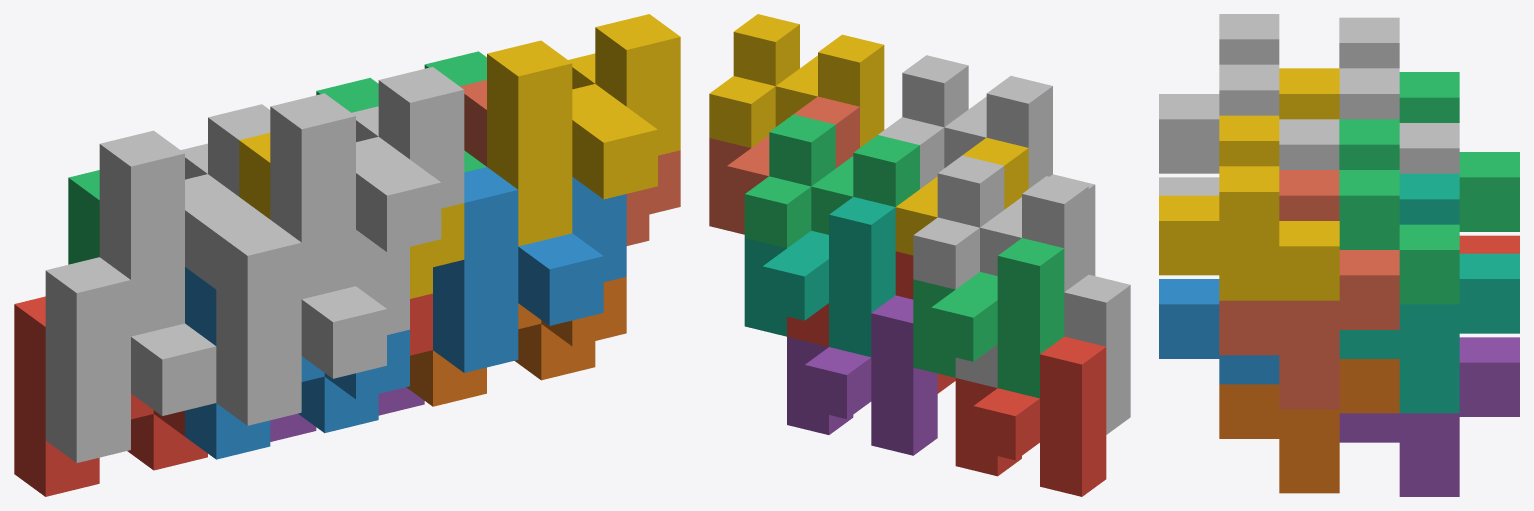
Rendered from tiling.obj.
3 renders of one model, left to right at view 1: azimuth 30°, elevation 25°; view 2: azimuth 150°, elevation 25°; view 3: azimuth 270°, elevation 25°, orthographic. The views are drawn at different scales.
Visible parts, largest first — view 1: copy_2_domain_4, copy_2_domain_8, copy_2_domain_2, copy_2_domain_6, copy_2_domain_3, copy_2_domain_1, copy_1_domain_1, copy_1_domain_2, copy_1_domain_6, copy_1_domain_4, copy_1_domain_8, copy_2_domain_7 (+3 smaller); view 2: copy_1_domain_1, copy_1_domain_3, copy_1_domain_7, copy_2_domain_3, copy_1_domain_5, copy_2_domain_8, copy_2_domain_7, copy_2_domain_4, copy_2_domain_1, copy_1_domain_8, copy_1_domain_4, copy_2_domain_5 (+1 smaller); view 3: copy_2_domain_8, copy_1_domain_8, copy_1_domain_7, copy_2_domain_4, copy_2_domain_7, copy_1_domain_6, copy_1_domain_5, copy_2_domain_3, copy_1_domain_3, copy_2_domain_6, copy_1_domain_4, copy_2_domain_2 (+1 smaller).
Part boxes in pixels (left/top/right/bottom): copy_2_domain_4: left=270, top=67, right=464, bottom=299; copy_2_domain_8: left=487, top=14, right=680, bottom=246; copy_2_domain_2: left=216, top=220, right=409, bottom=425; copy_2_domain_6: left=433, top=167, right=626, bottom=372; copy_2_domain_3: left=99, top=104, right=270, bottom=336; copy_2_domain_1: left=45, top=257, right=216, bottom=462; copy_1_domain_1: left=14, top=296, right=207, bottom=496; copy_1_domain_2: left=185, top=267, right=409, bottom=459; copy_1_domain_6: left=406, top=277, right=626, bottom=406; copy_1_domain_4: left=239, top=133, right=464, bottom=298; copy_1_domain_8: left=460, top=80, right=680, bottom=245; copy_2_domain_7: left=316, top=51, right=486, bottom=172; copy_1_domain_1: left=955, top=336, right=1106, bottom=496; copy_1_domain_3: left=913, top=238, right=1064, bottom=398; copy_1_domain_7: left=744, top=197, right=895, bottom=356; copy_2_domain_3: left=913, top=155, right=1088, bottom=291; copy_1_domain_5: left=787, top=295, right=937, bottom=455; copy_2_domain_8: left=709, top=14, right=884, bottom=147; copy_2_domain_7: left=744, top=114, right=919, bottom=248; copy_2_domain_4: left=878, top=55, right=1052, bottom=188; copy_2_domain_1: left=955, top=274, right=1130, bottom=434; copy_1_domain_8: left=709, top=96, right=859, bottom=234; copy_1_domain_4: left=895, top=137, right=1028, bottom=255; copy_2_domain_5: left=787, top=251, right=955, bottom=393; copy_2_domain_8: left=1159, top=115, right=1339, bottom=300; copy_1_domain_8: left=1219, top=170, right=1399, bottom=409; copy_1_domain_7: left=1339, top=173, right=1519, bottom=413; copy_2_domain_4: left=1159, top=14, right=1339, bottom=173; copy_2_domain_7: left=1339, top=119, right=1459, bottom=304; copy_1_domain_6: left=1219, top=359, right=1399, bottom=493; copy_1_domain_5: left=1339, top=337, right=1519, bottom=496; copy_2_domain_3: left=1339, top=17, right=1459, bottom=173; copy_1_domain_3: left=1399, top=72, right=1519, bottom=231; copy_2_domain_6: left=1159, top=279, right=1279, bottom=384; copy_1_domain_4: left=1279, top=68, right=1339, bottom=119; copy_2_domain_2: left=1159, top=177, right=1219, bottom=195.
Size of the model in its own units: 10 by 7 by 6.
